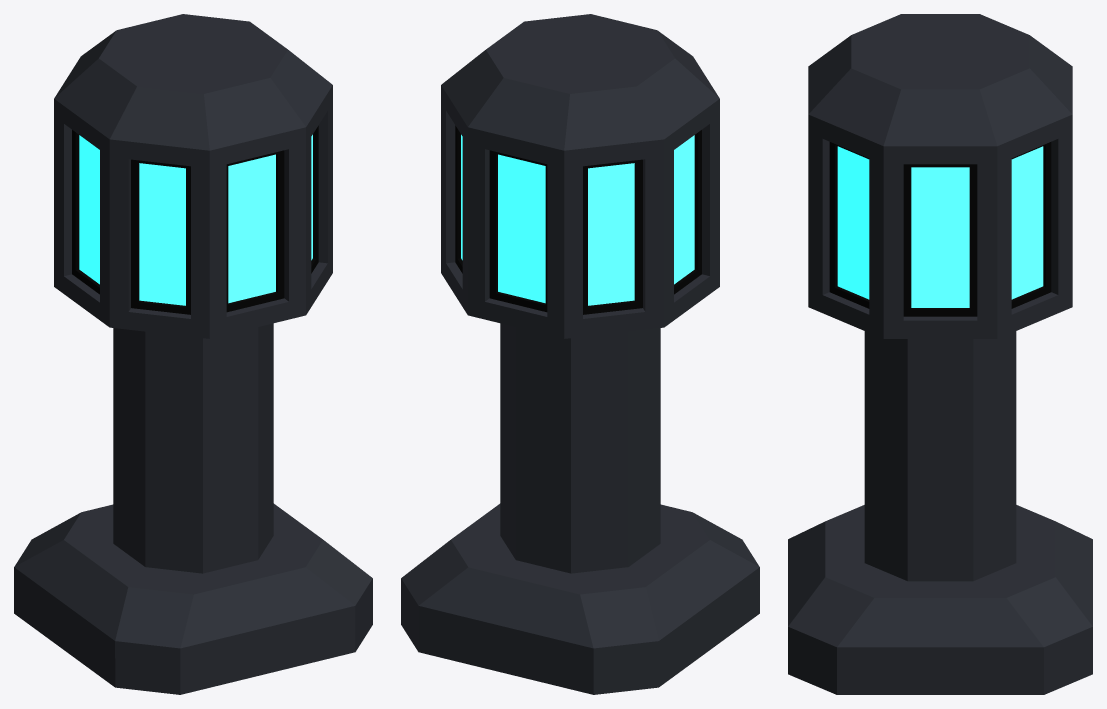
The model's file is SM_Defense_Beacon.fbx.
The picture shows the model from 3 angles, left to right: view 1: azimuth 30°, elevation 25°; view 2: azimuth 150°, elevation 25°; view 3: azimuth 270°, elevation 25°; orthographic projection. The views are drawn at different scales.
Visible parts, largest first — view 1: SM_Defense_Beacon; view 2: SM_Defense_Beacon; view 3: SM_Defense_Beacon.
Part boxes in pixels (x1,y1,x2,y2): SM_Defense_Beacon: (14, 14, 372, 694); SM_Defense_Beacon: (401, 14, 759, 694); SM_Defense_Beacon: (788, 14, 1092, 694).
Size of the model in its own units: 16.99 by 35.6 by 16.99.
